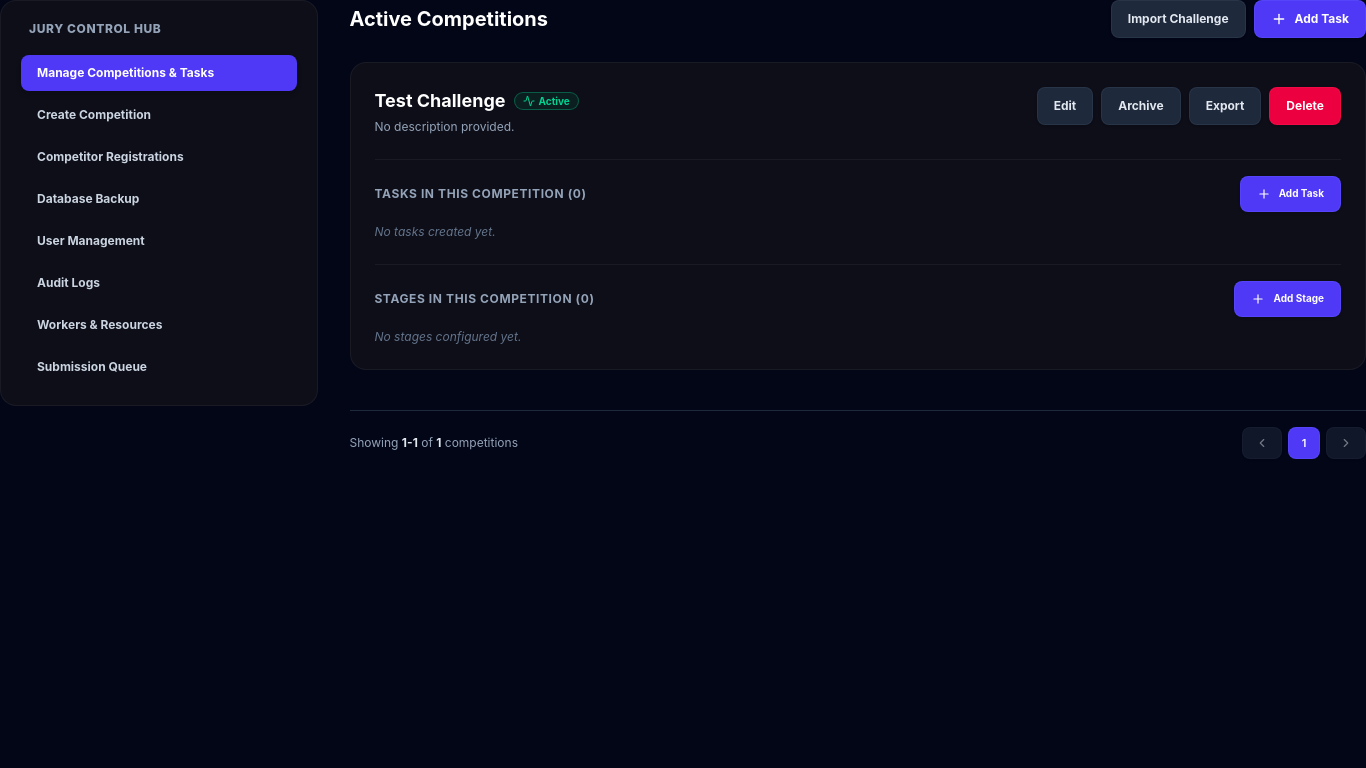
AdminPanel – tab navigation & sub-module rendering › switches to Competitor Registration tab and renders CompetitorManager
Click the button "Competitor Registrations". click: (159, 157)
box: [21,139,296,175]
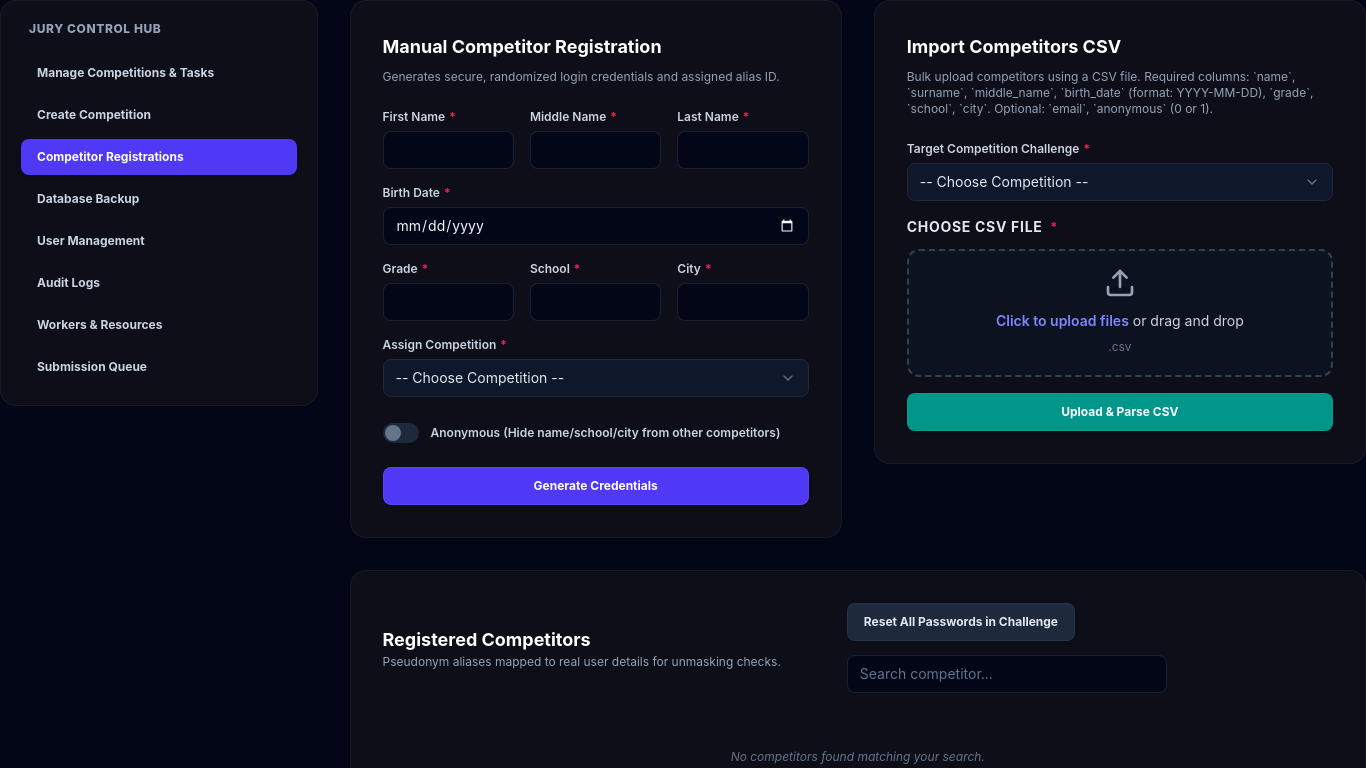
Now the heading "Manual Competitor Registration" is shown, box [382,36,662,57]
